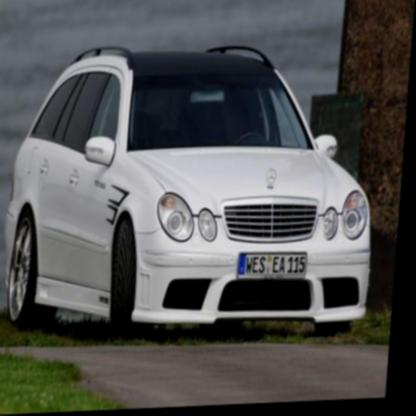License_Plate: (237, 251, 307, 279)
